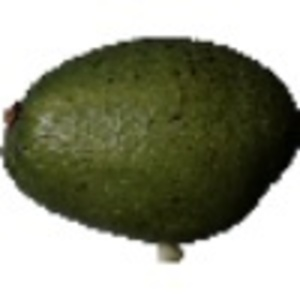abacate: (1, 32, 298, 244)
